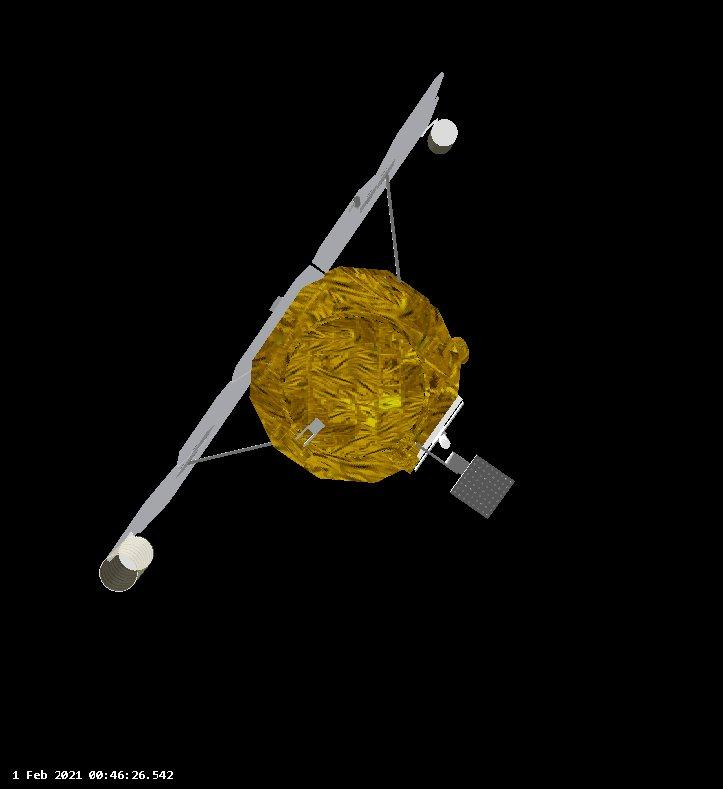antenna: (410, 397, 518, 522), (97, 533, 156, 595), (423, 114, 456, 157)
body: (247, 264, 468, 490)
solar: (104, 69, 448, 564)
